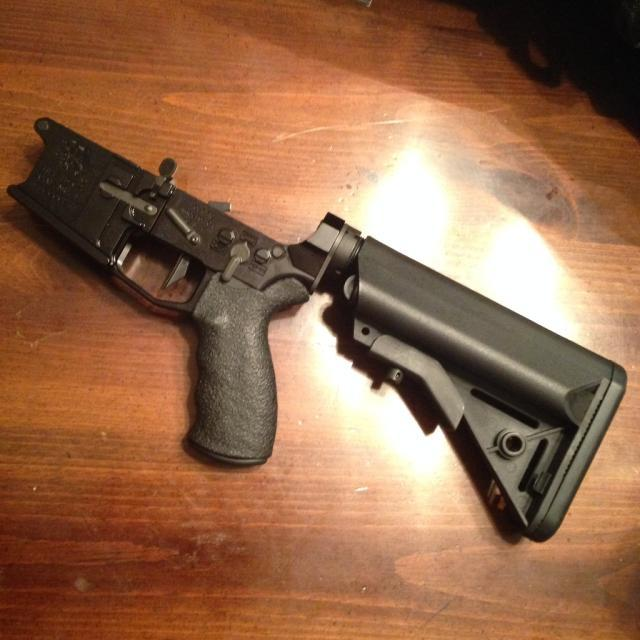Gun: (9, 118, 626, 540)
